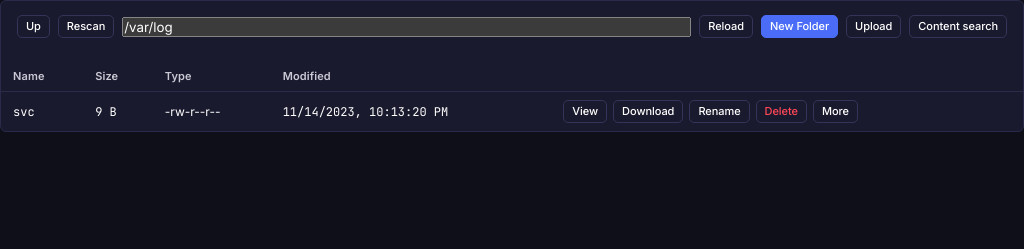
Scenario: FilesTab viewer › says a binary file cannot be previewed instead of showing its bytes
What coordinates should you click on to do the following:
click the text "svc"
I would click on:
 (24, 112)
Its box is [1,92,83,131].
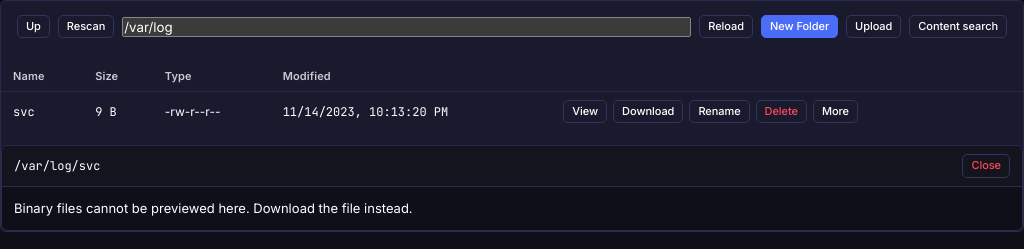
Result: the text "Binary files cannot be previewed" is shown at [14,200,413,216]
